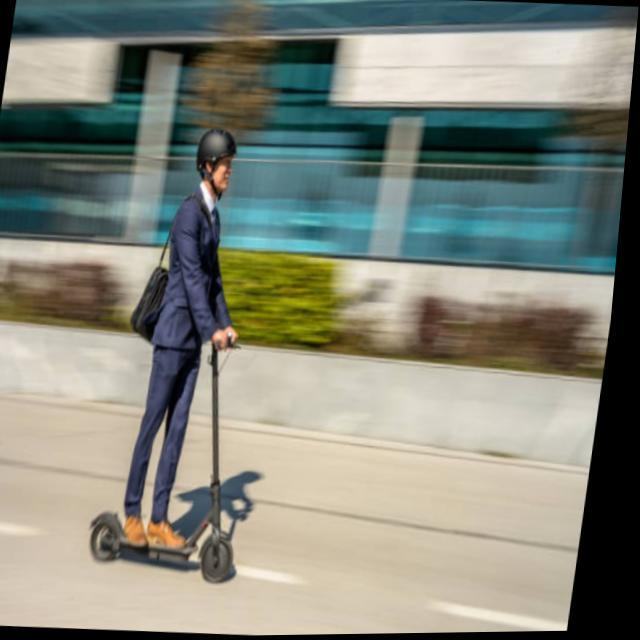Helmet: (192, 119, 244, 202)
